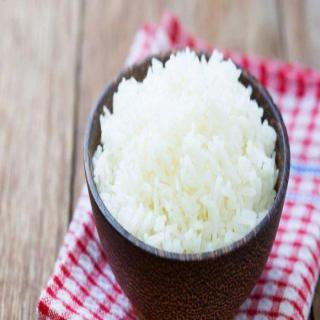Nasi: (90, 45, 280, 257)
